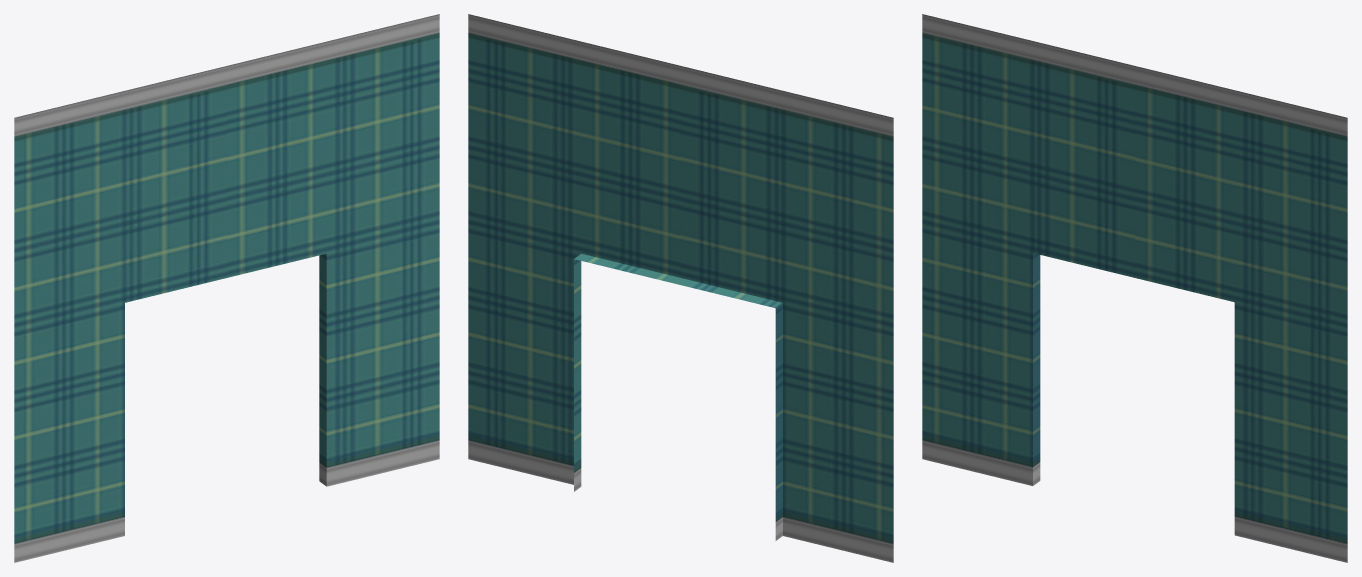
Rendered from wall_archway.fbx.
3 renders of one model, left to right at view 1: azimuth 30°, elevation 25°; view 2: azimuth 150°, elevation 25°; view 3: azimuth 330°, elevation 25°, orthographic.
Parts seen in each view (by area): view 1: wall_archway; view 2: wall_archway; view 3: wall_archway.
Part boxes in pixels (bbox=[...]): wall_archway: bbox=[14, 14, 439, 562]; wall_archway: bbox=[468, 14, 893, 562]; wall_archway: bbox=[922, 14, 1347, 562].
Bounding box in the file's own units: 400 × 400 × 12.07.
Materials: 1 (1 with a texture image).
